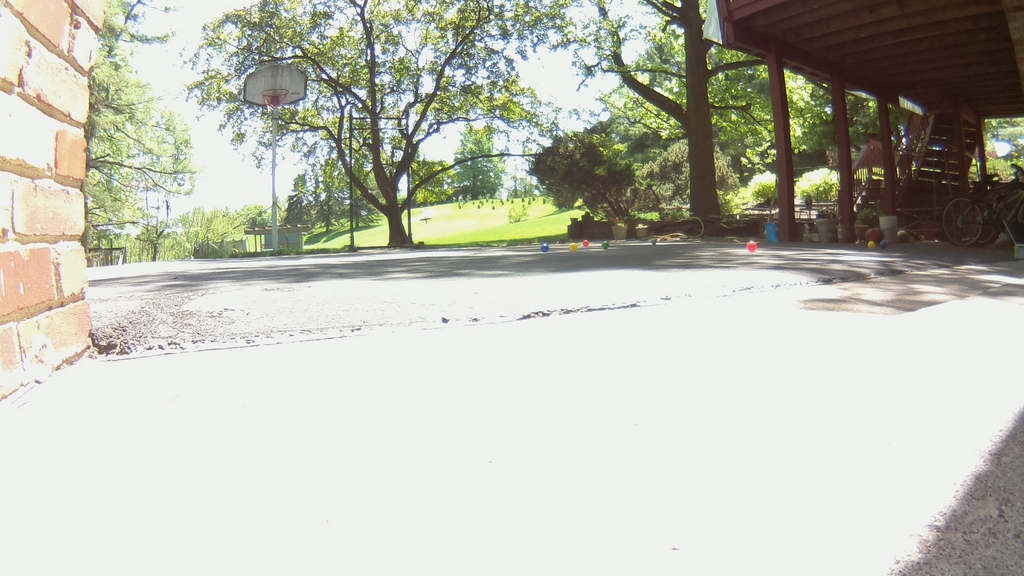ball: (602, 240, 609, 247)
